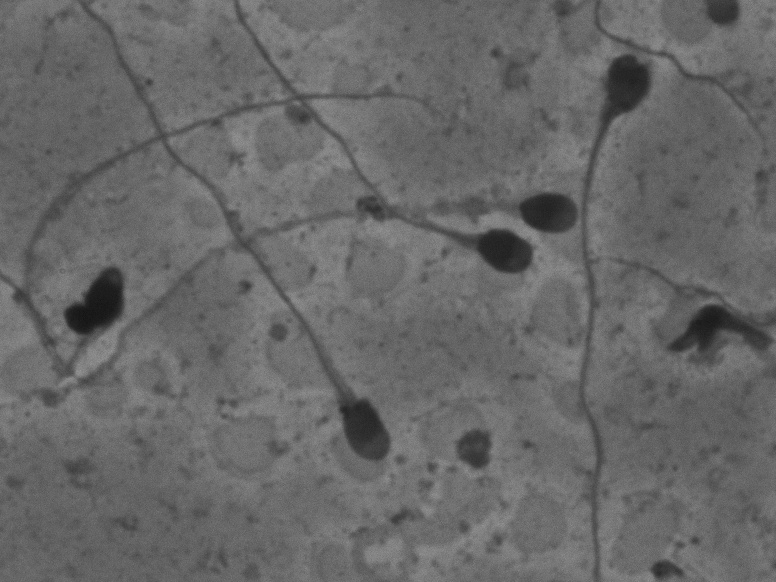Abnormal: (79, 10, 406, 471), (570, 48, 667, 555), (32, 249, 134, 400)
Normal: (56, 183, 582, 402), (217, 8, 542, 289)
